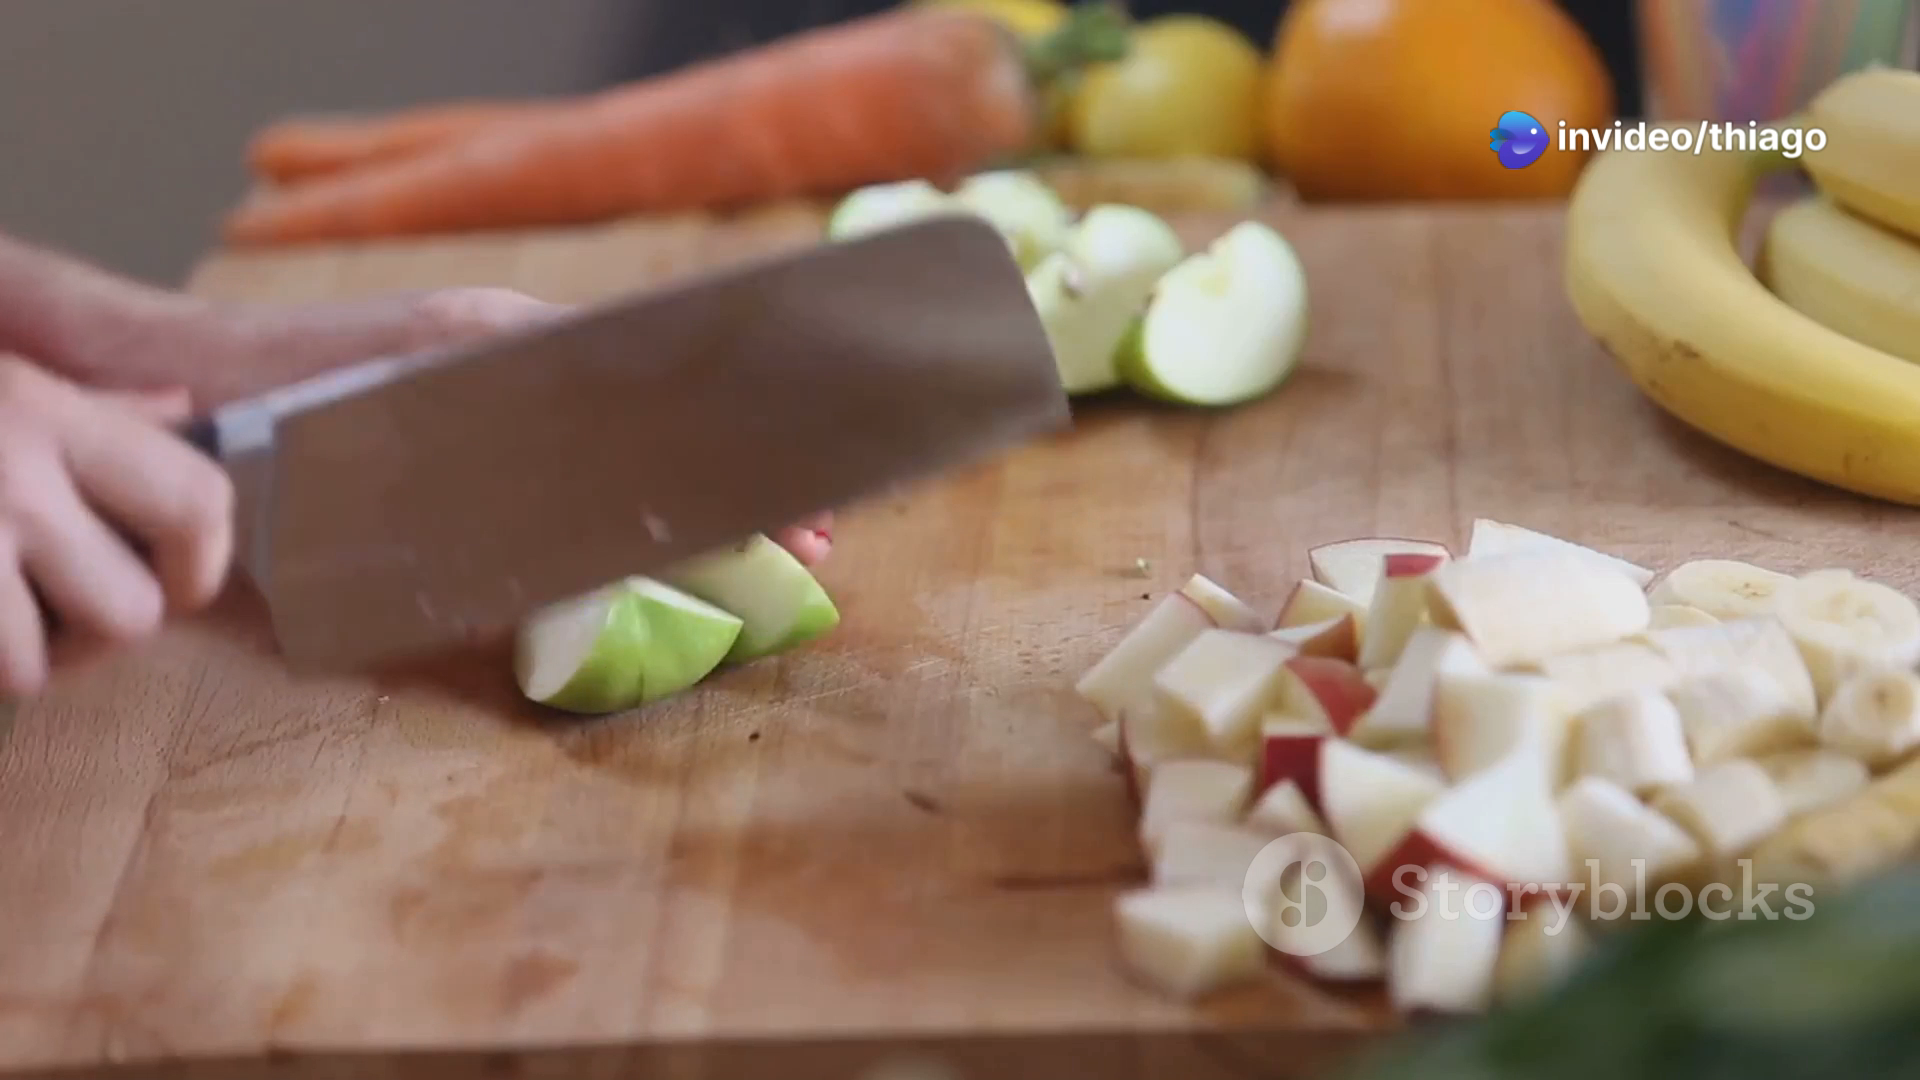cortante: (207, 210, 1071, 683)
